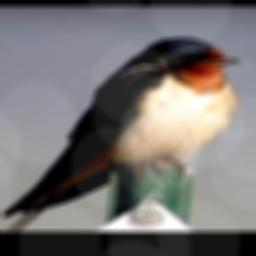Swallow: (1, 36, 242, 231)
